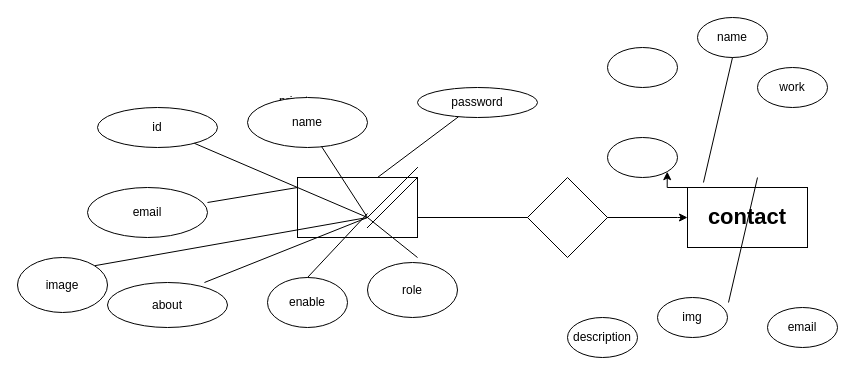
The diagram is 855 pixels wide and 375 high, and some of its shapes have lost their labels. The shapes that lost their labels are listed below. From the top down, each one's box as (x1, y1, x2, y2) in pixels, then its label:
(606, 46, 678, 88): cid
(606, 136, 678, 178): mobileno
(296, 176, 418, 238): user
(526, 176, 608, 258): has
